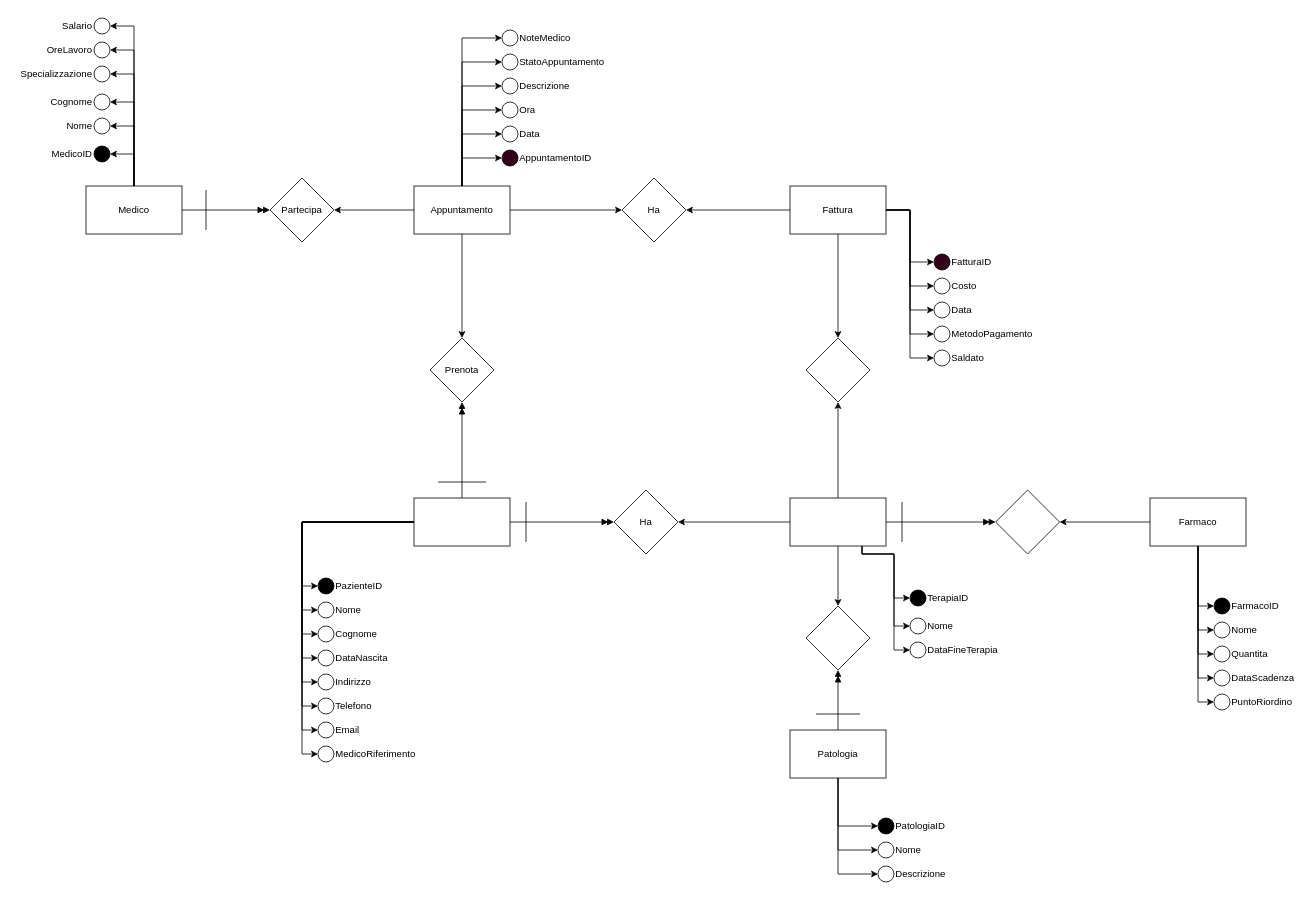
Image size: 1308x899. Some labels were removed from this diagram. Each missing label, with the centre of its shape:
Emessa: (837,369)
Paziente: (461,521)
Terapia: (837,521)
Trattata: (837,637)
Usa: (1027,521)
